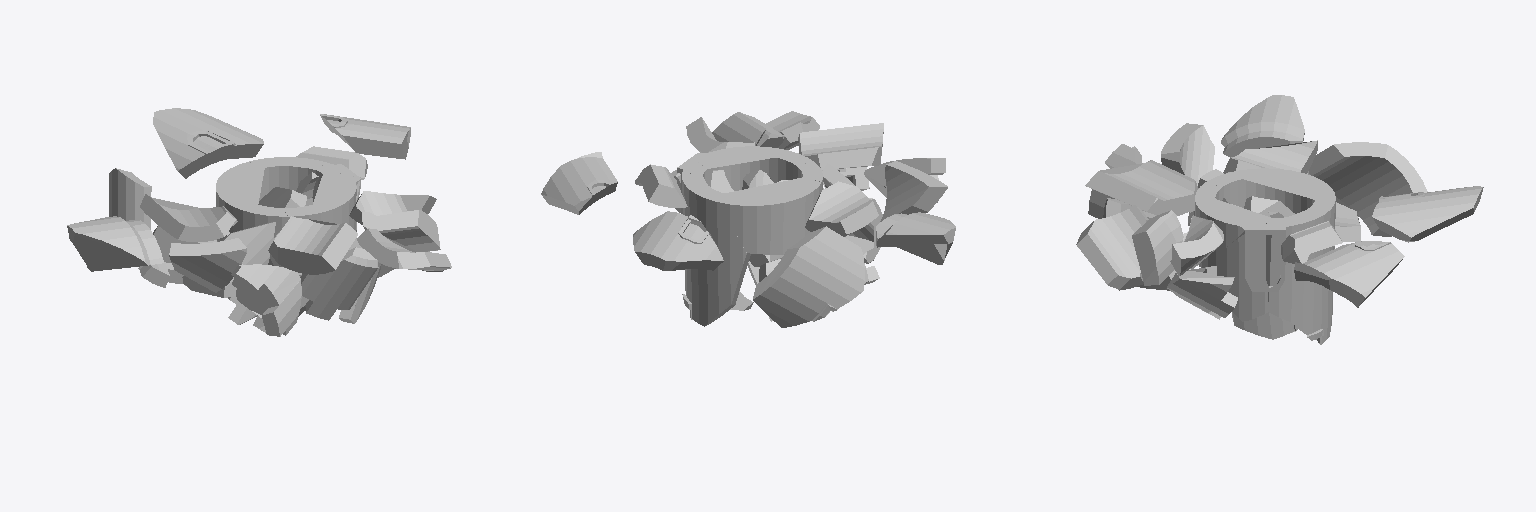
Rendered from destruction_tower_000059.obj.
3 renders of one model, left to right at view 1: azimuth 30°, elevation 25°; view 2: azimuth 150°, elevation 25°; view 3: azimuth 270°, elevation 25°, orthographic.
Visible parts, largest first — view 1: tower.001_cell.025_Mesh.025, tower.001_cell.005_Mesh.005, tower.001_cell.024_Mesh.024, tower.001_cell.006_Mesh.006, tower.001_cell.011_Mesh.011, tower.001_cell.002_Mesh.002, tower.001_cell.009_Mesh.009, tower.001_cell.012_Mesh.012, tower.001_cell.028_Mesh.028, tower.001_cell_Mesh, tower.001_cell.021_Mesh.021, tower.001_cell.015_Mesh.015 (+9 smaller); view 2: tower.001_cell.003_Mesh.003, tower.001_cell.017_Mesh.017, tower.001_cell.015_Mesh.015, tower.001_cell.025_Mesh.025, tower.001_cell.024_Mesh.024, tower.001_cell.012_Mesh.012, tower.001_cell.005_Mesh.005, tower.001_cell.028_Mesh.028, tower.001_cell.009_Mesh.009, tower.001_cell.002_Mesh.002, tower.001_cell_Mesh, tower.001_cell.016_Mesh.016 (+5 smaller); view 3: tower.001_cell.003_Mesh.003, tower.001_cell.012_Mesh.012, tower.001_cell.025_Mesh.025, tower.001_cell.024_Mesh.024, tower.001_cell.020_Mesh.020, tower.001_cell.021_Mesh.021, tower.001_cell.017_Mesh.017, tower.001_cell.005_Mesh.005, tower.001_cell.015_Mesh.015, tower.001_cell_Mesh, tower.001_cell.030_Mesh.030, tower.001_cell.028_Mesh.028 (+10 smaller).
Part boxes in pixels (bbox=[...]): tower.001_cell.025_Mesh.025: bbox=[153, 108, 263, 178]; tower.001_cell.005_Mesh.005: bbox=[67, 216, 163, 271]; tower.001_cell.024_Mesh.024: bbox=[268, 216, 357, 274]; tower.001_cell.006_Mesh.006: bbox=[231, 264, 301, 336]; tower.001_cell.011_Mesh.011: bbox=[300, 247, 378, 320]; tower.001_cell.002_Mesh.002: bbox=[169, 238, 246, 292]; tower.001_cell.009_Mesh.009: bbox=[140, 194, 237, 241]; tower.001_cell.012_Mesh.012: bbox=[320, 114, 410, 159]; tower.001_cell.028_Mesh.028: bbox=[283, 174, 360, 228]; tower.001_cell_Mesh: bbox=[360, 210, 440, 251]; tower.001_cell.021_Mesh.021: bbox=[357, 228, 451, 271]; tower.001_cell.015_Mesh.015: bbox=[216, 162, 264, 241]; tower.001_cell.003_Mesh.003: bbox=[753, 226, 864, 327]; tower.001_cell.017_Mesh.017: bbox=[682, 172, 750, 326]; tower.001_cell.015_Mesh.015: bbox=[720, 177, 821, 254]; tower.001_cell.025_Mesh.025: bbox=[633, 211, 723, 270]; tower.001_cell.024_Mesh.024: bbox=[798, 123, 883, 171]; tower.001_cell.012_Mesh.012: bbox=[541, 152, 617, 214]; tower.001_cell.005_Mesh.005: bbox=[876, 212, 955, 264]; tower.001_cell.028_Mesh.028: bbox=[697, 146, 811, 190]; tower.001_cell.009_Mesh.009: bbox=[805, 181, 878, 236]; tower.001_cell.002_Mesh.002: bbox=[880, 161, 947, 221]; tower.001_cell_Mesh: bbox=[712, 112, 784, 147]; tower.001_cell.016_Mesh.016: bbox=[635, 164, 687, 207]; tower.001_cell.003_Mesh.003: bbox=[1309, 142, 1427, 236]; tower.001_cell.012_Mesh.012: bbox=[1294, 241, 1404, 307]; tower.001_cell.025_Mesh.025: bbox=[1372, 186, 1483, 242]; tower.001_cell.024_Mesh.024: bbox=[1085, 160, 1198, 215]; tower.001_cell.020_Mesh.020: bbox=[1207, 225, 1271, 321]; tower.001_cell.021_Mesh.021: bbox=[1076, 205, 1148, 290]; tower.001_cell.017_Mesh.017: bbox=[1291, 197, 1335, 344]; tower.001_cell.005_Mesh.005: bbox=[1221, 95, 1304, 157]; tower.001_cell.015_Mesh.015: bbox=[1243, 168, 1335, 213]; tower.001_cell_Mesh: bbox=[1132, 210, 1183, 285]; tower.001_cell.030_Mesh.030: bbox=[1167, 266, 1237, 319]; tower.001_cell.028_Mesh.028: bbox=[1195, 184, 1271, 267].
Bounding box in the file's own units: 129 × 48.97 × 123.